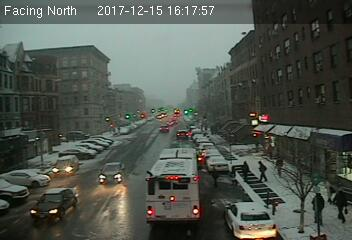bus: (144, 146, 203, 227)
car: (222, 201, 278, 240), (29, 188, 77, 220), (97, 162, 128, 182), (51, 155, 79, 177), (206, 156, 230, 173), (175, 130, 189, 139)
pedestrian: (312, 189, 327, 226), (228, 166, 240, 190), (210, 166, 222, 189), (255, 158, 266, 182), (241, 160, 250, 184), (274, 157, 284, 178)
